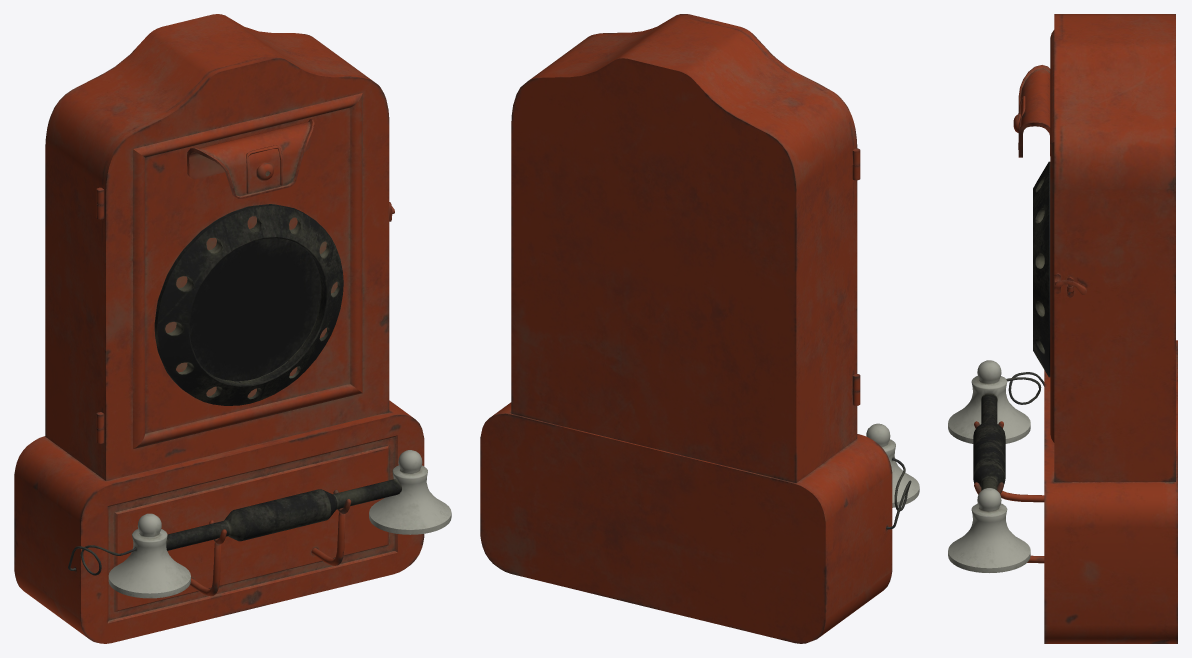
The model's file is vintage_telephone_wall_clock.glb.
3 views of the same model, side by side, from view 1: azimuth 30°, elevation 25°; view 2: azimuth 150°, elevation 25°; view 3: azimuth 270°, elevation 25° (orthographic).
Parts seen in each view (by area): view 1: vintage_telephone_wall_clock; view 2: vintage_telephone_wall_clock; view 3: vintage_telephone_wall_clock.
Part boxes in pixels (x1,y1,x2,y2): vintage_telephone_wall_clock: [14, 14, 451, 643]; vintage_telephone_wall_clock: [480, 14, 919, 643]; vintage_telephone_wall_clock: [948, 14, 1177, 643].
Size of the model in its own units: 0.3428 by 0.5012 by 0.1925.
Materials: 2 (2 with a texture image).
